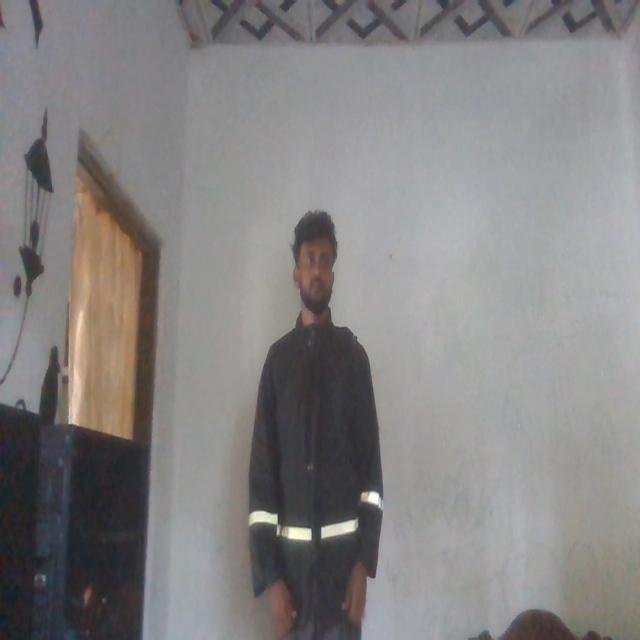Jacket_Wearer: (238, 297, 382, 615)
Person: (241, 199, 391, 640)
